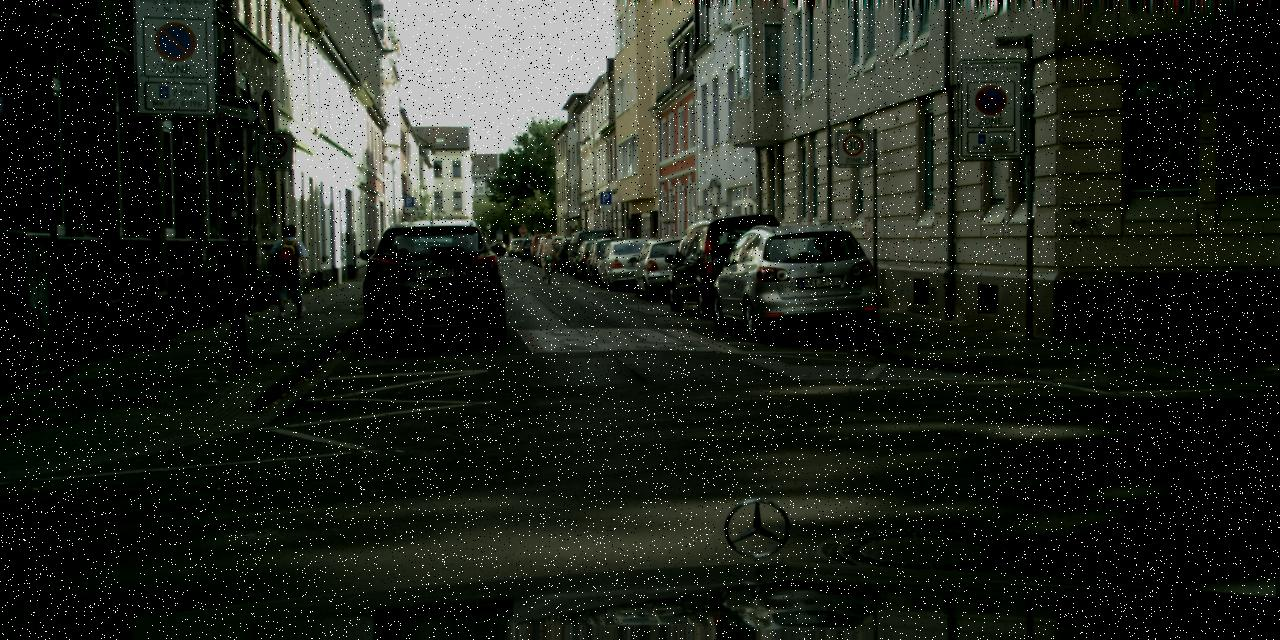ped: (272, 224, 309, 316), (540, 232, 556, 273)
